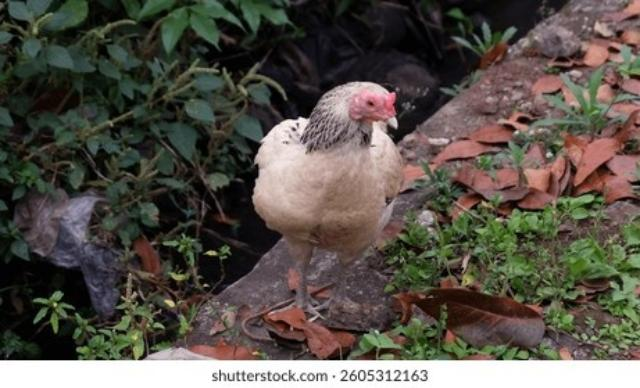Chicken: (249, 81, 404, 321)
